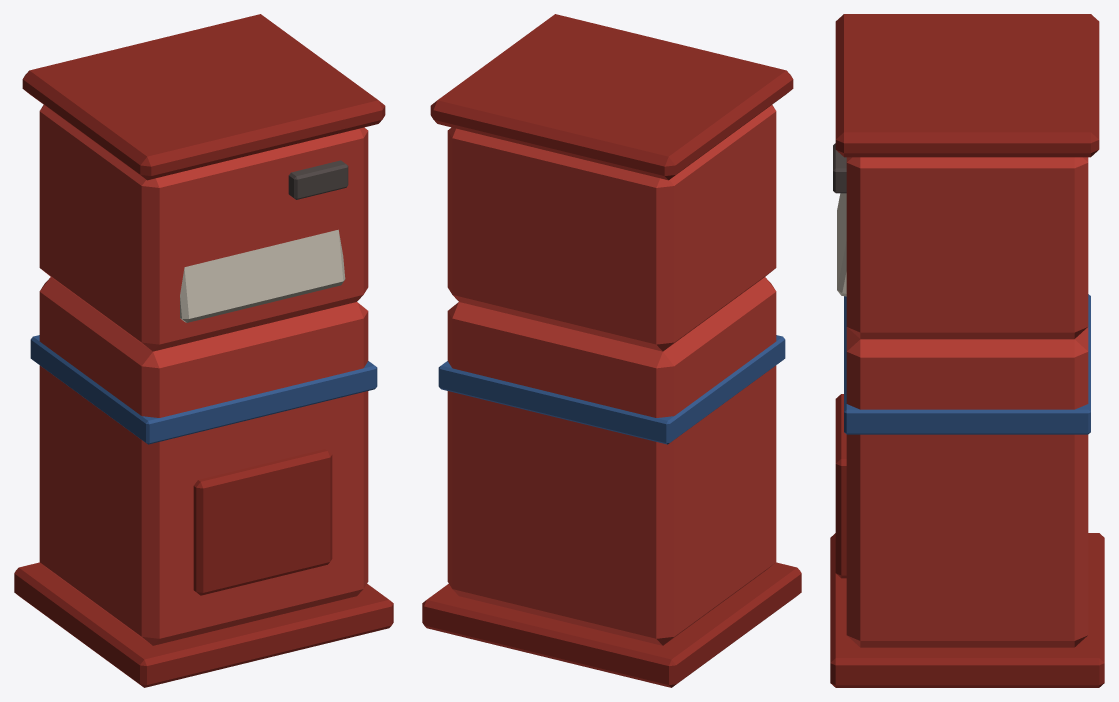
Rendered from newsbox.glb.
3 renders of one model, left to right at view 1: azimuth 30°, elevation 25°; view 2: azimuth 150°, elevation 25°; view 3: azimuth 270°, elevation 25°, orthographic. The views are drawn at different scales.
Visible parts, largest first — view 1: newsbox; view 2: newsbox; view 3: newsbox.
Boxes of the visible parts, bbox=[...] form: newsbox: bbox=[14, 14, 393, 687]; newsbox: bbox=[422, 14, 801, 687]; newsbox: bbox=[830, 14, 1104, 687].
Bounding box in the file's own units: 0.56 × 1.11 × 0.5.
